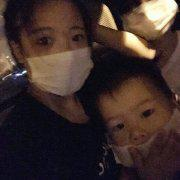OK: (24, 21, 100, 97)
WRONG: (104, 99, 170, 165)
